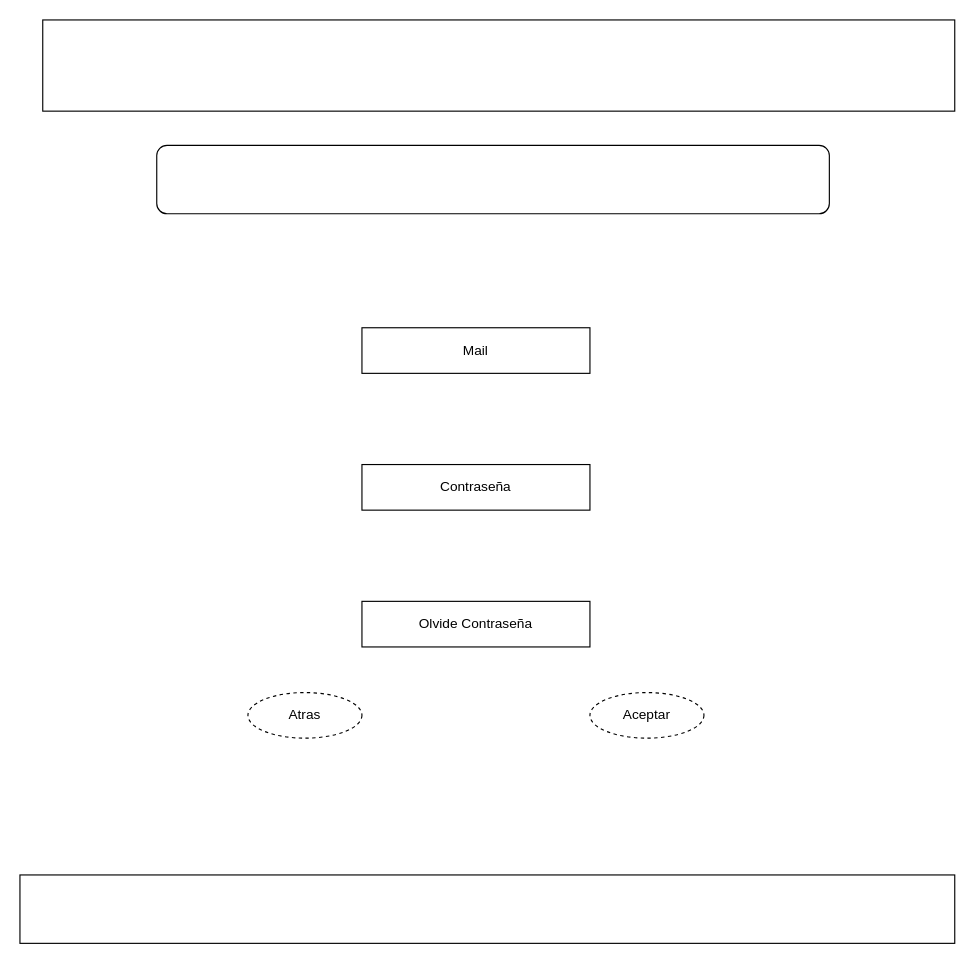
This 975x963 diagram has some shape labels left out. Each missing label, with the centre of its shape:
Pie de Pagina: the point at 487,908
Sección(Login): the point at 492,179
Titulo de la pagina: the point at 498,65
